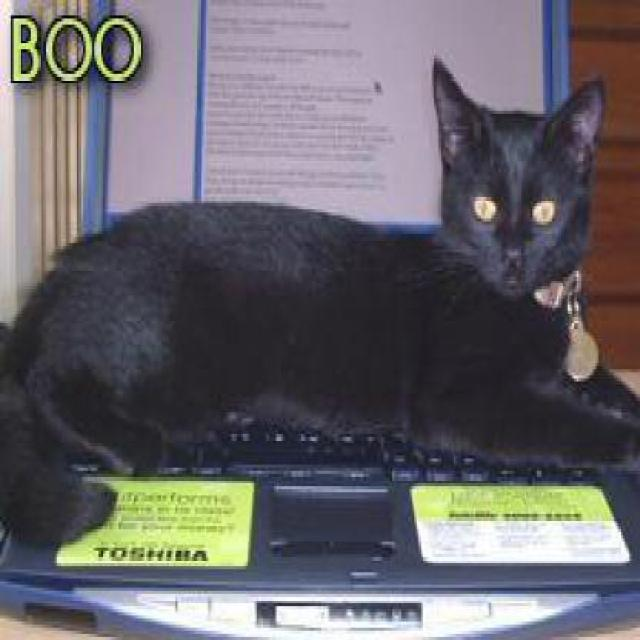cat: (0, 55, 638, 550)
